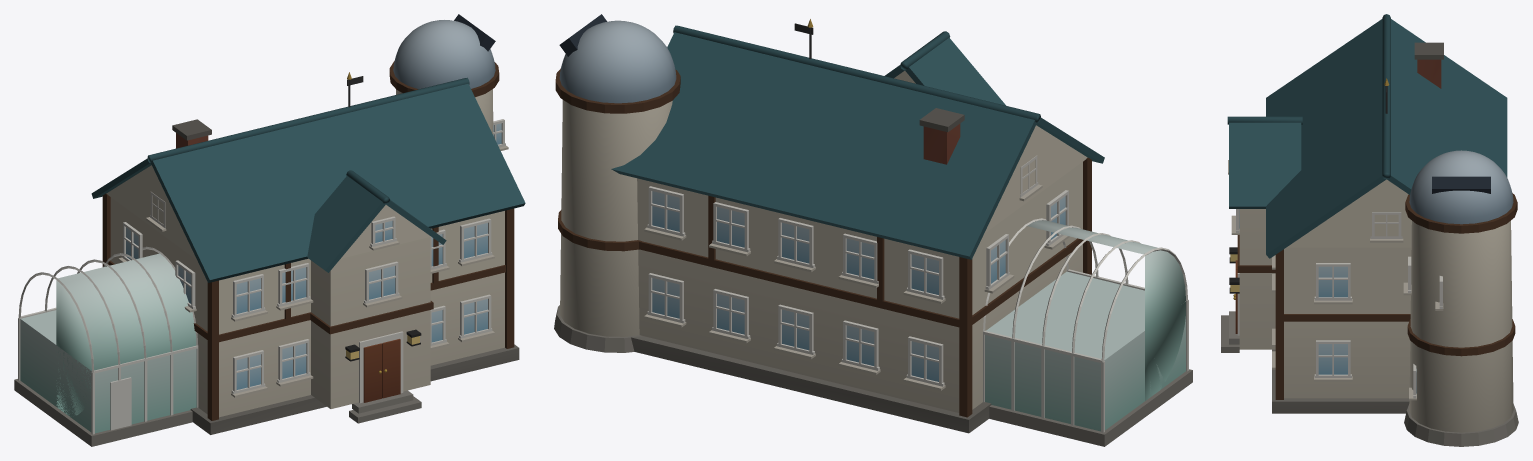
Rendered from cc_laboratorio_campo.glb.
The picture shows the model from 3 angles, left to right: view 1: azimuth 30°, elevation 25°; view 2: azimuth 150°, elevation 25°; view 3: azimuth 270°, elevation 25°; orthographic projection. The views are drawn at different scales.
Parts seen in each view (by area): view 1: cc_laboratorio_campo_lab_telhado, cc_laboratorio_campo_lab_parede, cc_laboratorio_campo_lab_vidro, cc_laboratorio_campo_lab_madeira, cc_laboratorio_campo_lab_pedra, cc_laboratorio_campo_lab_metal; view 2: cc_laboratorio_campo_lab_parede, cc_laboratorio_campo_lab_telhado, cc_laboratorio_campo_lab_vidro, cc_laboratorio_campo_lab_madeira, cc_laboratorio_campo_lab_pedra, cc_laboratorio_campo_lab_metal; view 3: cc_laboratorio_campo_lab_parede, cc_laboratorio_campo_lab_telhado, cc_laboratorio_campo_lab_madeira, cc_laboratorio_campo_lab_pedra, cc_laboratorio_campo_lab_metal, cc_laboratorio_campo_lab_vidro.
Boxes of the visible parts, x1,y1,x2,y2 form: cc_laboratorio_campo_lab_telhado: (91, 77, 525, 282); cc_laboratorio_campo_lab_parede: (106, 89, 504, 417); cc_laboratorio_campo_lab_vidro: (20, 123, 501, 433); cc_laboratorio_campo_lab_madeira: (18, 14, 514, 434); cc_laboratorio_campo_lab_pedra: (14, 119, 519, 446); cc_laboratorio_campo_lab_metal: (345, 20, 495, 373); cc_laboratorio_campo_lab_parede: (560, 71, 1087, 412); cc_laboratorio_campo_lab_telhado: (611, 25, 1104, 259); cc_laboratorio_campo_lab_vidro: (652, 191, 1185, 431); cc_laboratorio_campo_lab_madeira: (555, 14, 1188, 432); cc_laboratorio_campo_lab_pedra: (554, 108, 1192, 446); cc_laboratorio_campo_lab_metal: (559, 19, 813, 103); cc_laboratorio_campo_lab_parede: (1239, 179, 1513, 432); cc_laboratorio_campo_lab_telhado: (1227, 14, 1507, 258); cc_laboratorio_campo_lab_madeira: (1228, 160, 1517, 400); cc_laboratorio_campo_lab_pedra: (1221, 42, 1518, 446); cc_laboratorio_campo_lab_metal: (1229, 78, 1513, 299); cc_laboratorio_campo_lab_vidro: (1230, 209, 1416, 393).
Bounding box in the file's own units: 21.11 × 11.56 × 11.15.
